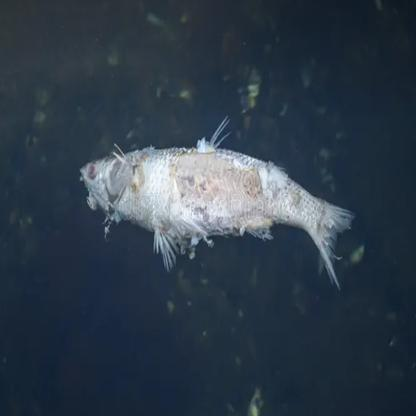deceased fish: (78, 143, 354, 294)
